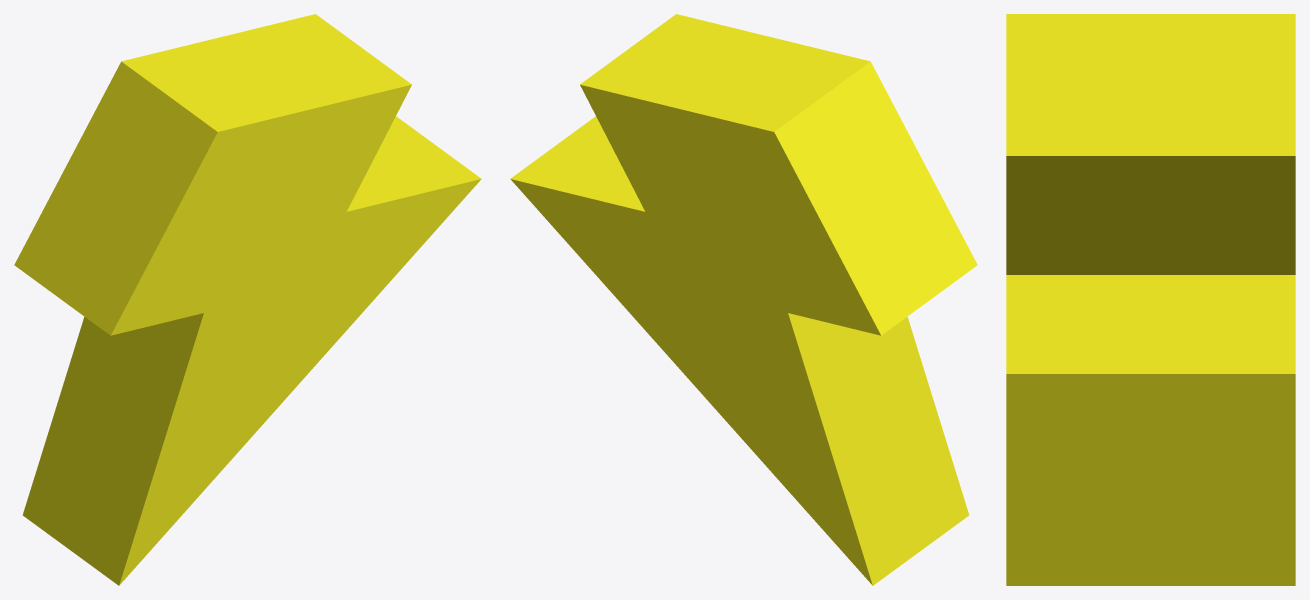
Rendered from Lightning.fbx.
3 views of the same model, side by side, from view 1: azimuth 30°, elevation 25°; view 2: azimuth 150°, elevation 25°; view 3: azimuth 270°, elevation 25° (orthographic). The views are drawn at different scales.
Visible parts, largest first — view 1: Plane; view 2: Plane; view 3: Plane.
Boxes of the visible parts, bbox=[...] form: Plane: bbox=[14, 14, 481, 585]; Plane: bbox=[510, 14, 977, 585]; Plane: bbox=[1006, 14, 1295, 585].
Size of the model in its own units: 122 by 135 by 54.92.
